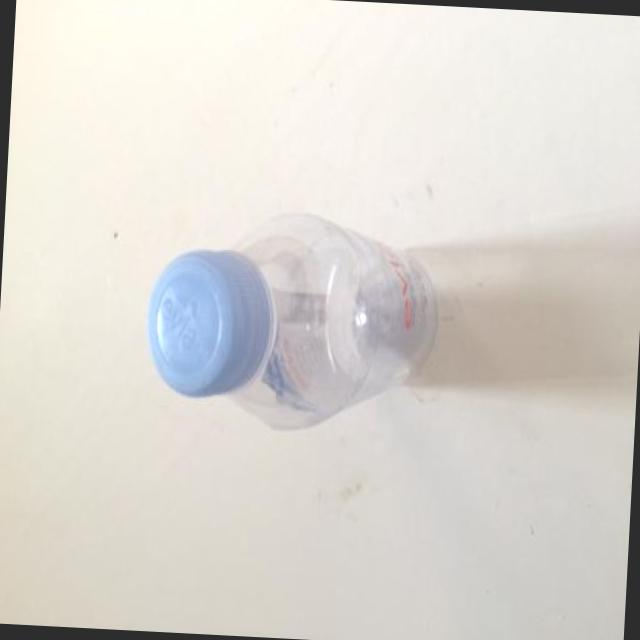Recycle: (142, 206, 444, 439)
